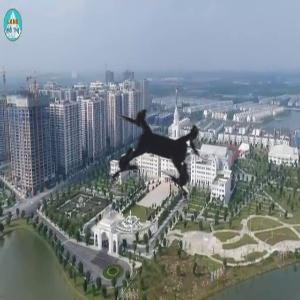drone: (70, 65, 252, 247)
